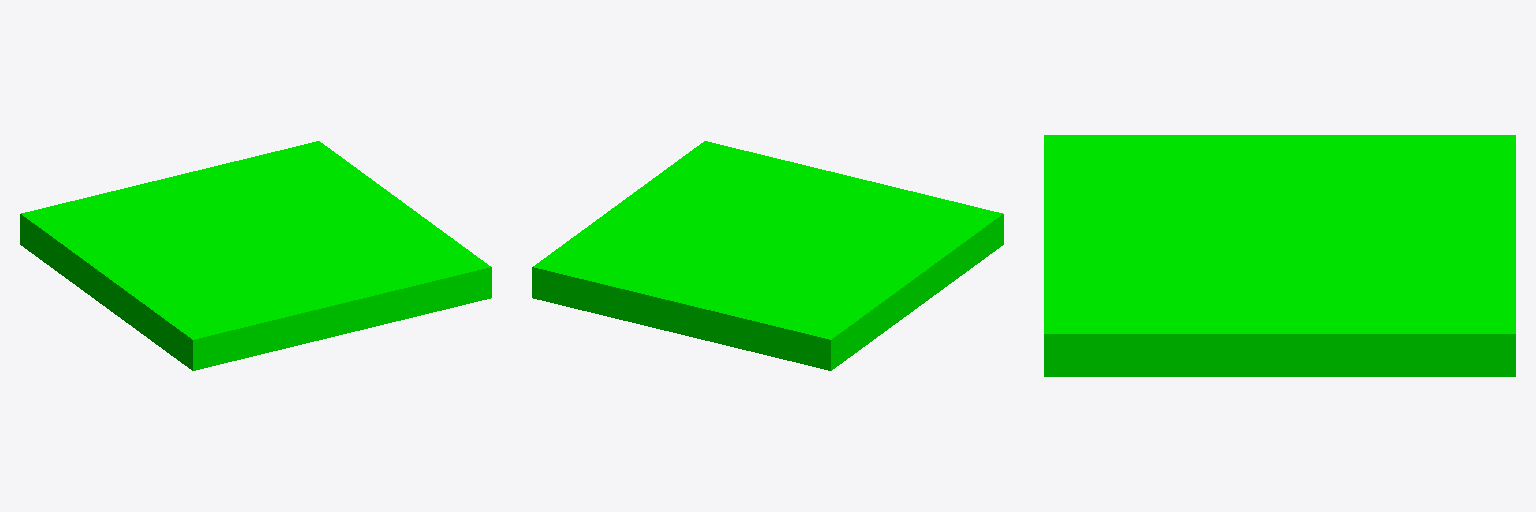
URDF robot description (rectangle):
<?xml version="1.0"?>
<robot name="rectangle">
	<link name="base_link">
		<inertial>
			<origin xyz="0.0 0.0 0.0" rpy="0.0 0.0 0.0"/>
			<mass value="0.00001"/>
			<inertia ixx="0" ixy="0.0" ixz="0.0" iyy="0" iyz="0.0" izz="0"/>
		</inertial>
		<visual>
			<origin xyz="0.0 0.0 0.0" rpy="0.0 0.0 0.0"/>
			<geometry>
				<box size="0.1 0.1 0.01"/>
			</geometry>
			<material name="green">
				<color rgba="0 1 0 1" />
			</material>
		</visual>
		<collision>
			<origin xyz="0.0 0.0 0.0" rpy="0.0 0.0 0.0"/>
			<geometry>
				<box size="0.1 0.1 0.01"/>
			</geometry>
		</collision>
	</link>
	<!-- <gazebo>
		<static>true</static>
	</gazebo> -->
      <gazebo reference="base_link">
    <gravity>0</gravity>
  </gazebo>
	<gazebo reference="base_link">
		<material>Gazebo/Yellow</material>
	</gazebo>

</robot>

--- What the picture shows (computed from the rendered views, not written in the file) ---
Views: 3 orthographic renders of the robot side by side, from view 1: azimuth 30°, elevation 25°; view 2: azimuth 150°, elevation 25°; view 3: azimuth 270°, elevation 25°.
Robot: rectangle — 1 links, 0 joints (none); root link base_link; default pose: every joint at zero.
Visible links, largest first — view 1: base_link; view 2: base_link; view 3: base_link.
Link boxes in pixels (left/top/right/bottom): base_link: left=20, top=141, right=491, bottom=370; base_link: left=532, top=141, right=1003, bottom=370; base_link: left=1044, top=135, right=1515, bottom=376.
Bounding box of the posed robot: 0.1 × 0.1 × 0.01 m (x, y, z).
Geometry: primitives only (box / cylinder / sphere), no mesh files.
